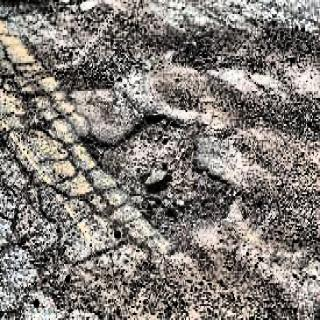alligator-crack: (0, 22, 108, 245)
pothole: (109, 112, 259, 266)
